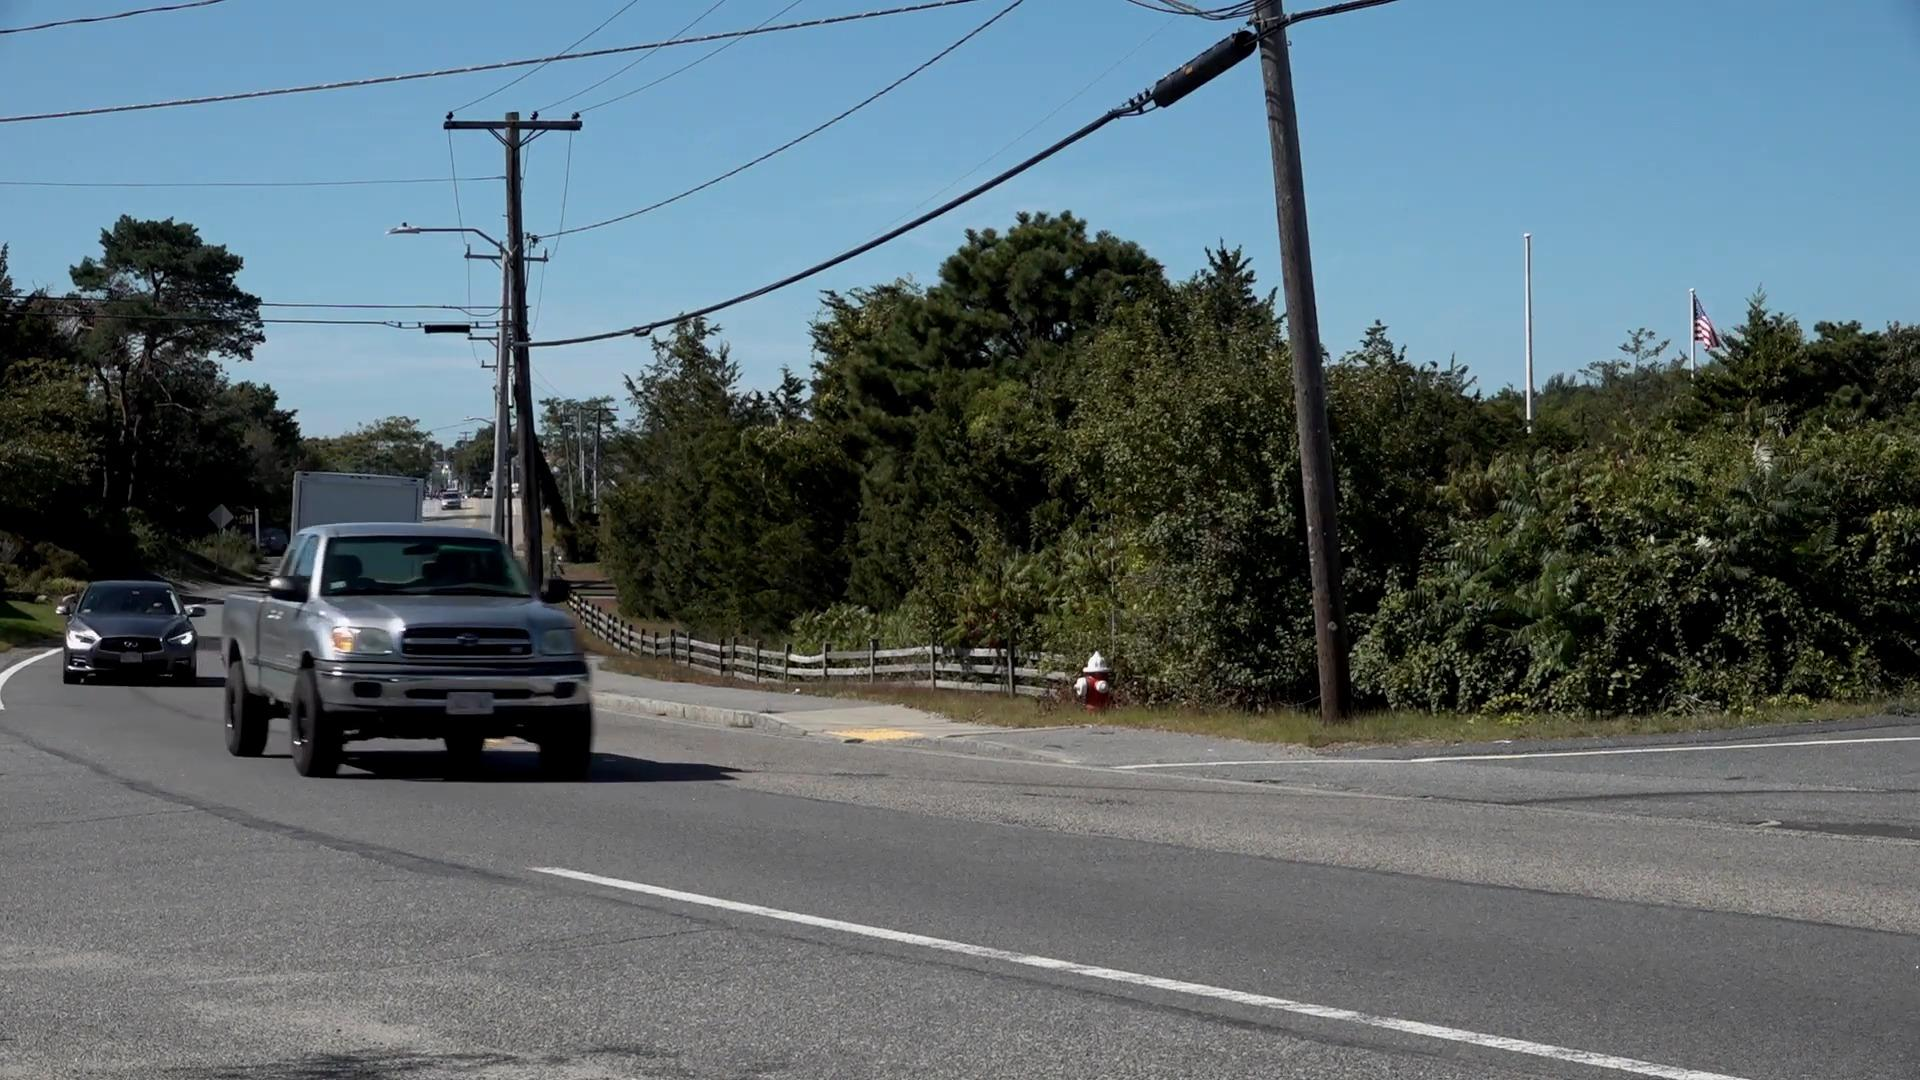pickup: (220, 521, 597, 771)
sedans: (63, 580, 203, 683)
